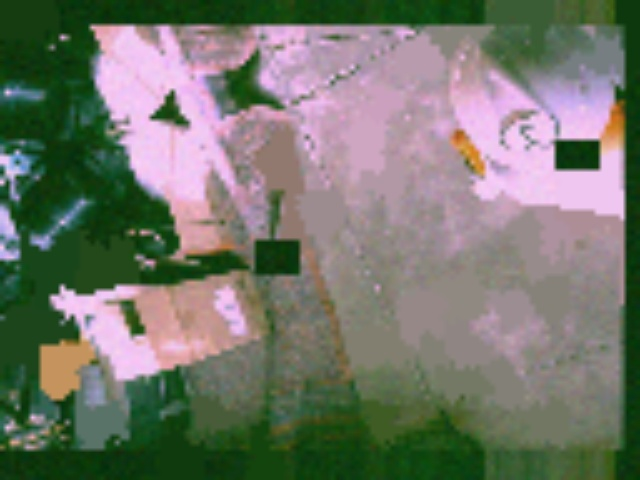one: (494, 108, 565, 159)
